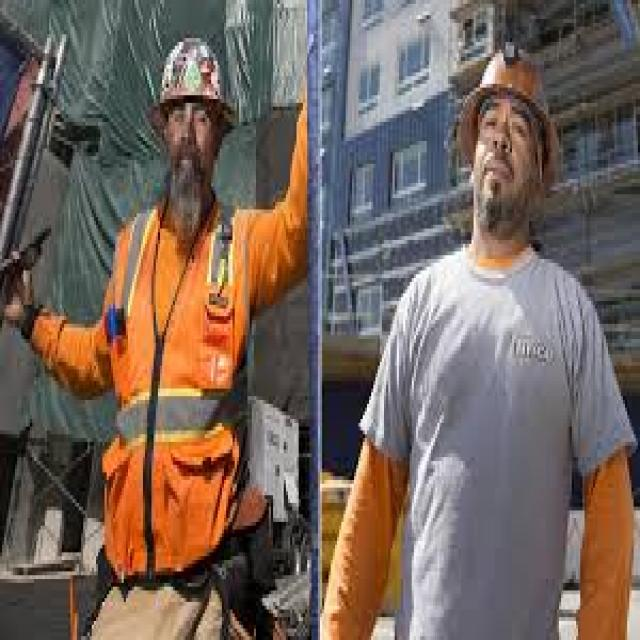Reflective-Jacket: (92, 194, 273, 488)
Safety-Helmet: (446, 34, 569, 168), (143, 27, 241, 133)
